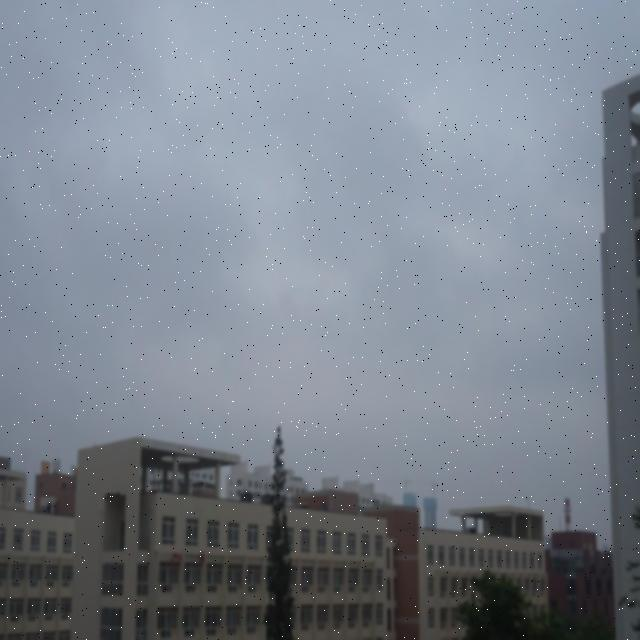UAV: (456, 511, 468, 523)
